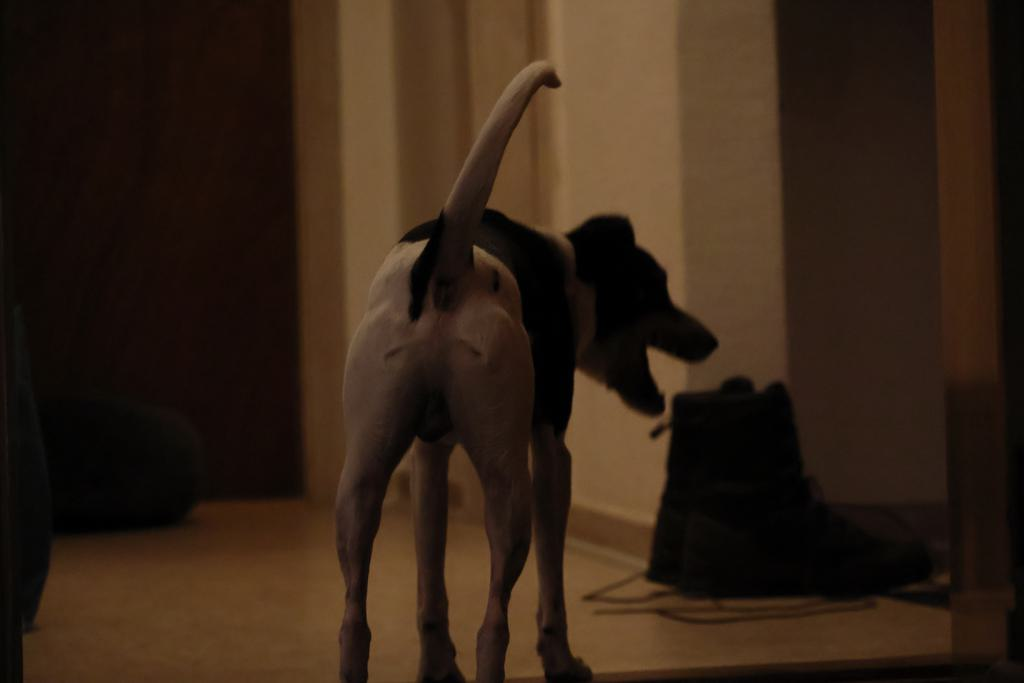Dog: (325, 47, 729, 683)
